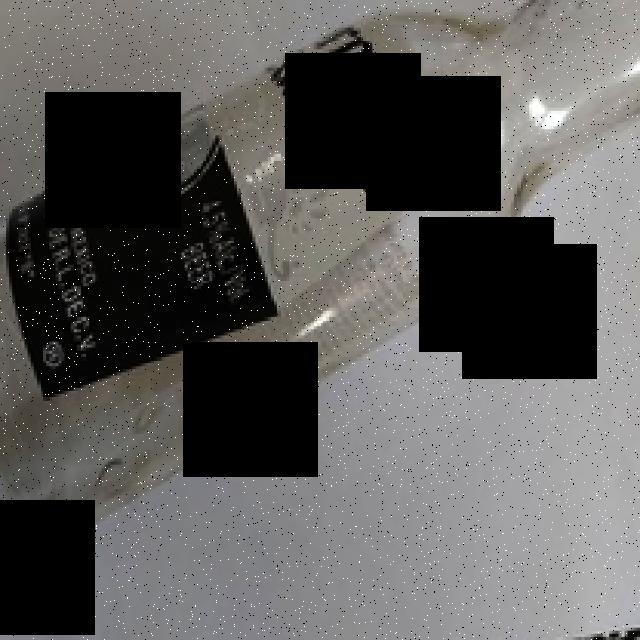glass-bottle: (1, 2, 640, 546)
